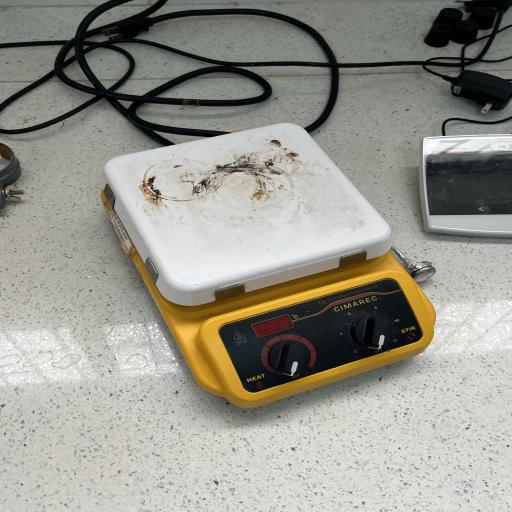Plancha_Agitacion_Cimarec: (85, 115, 447, 416)
